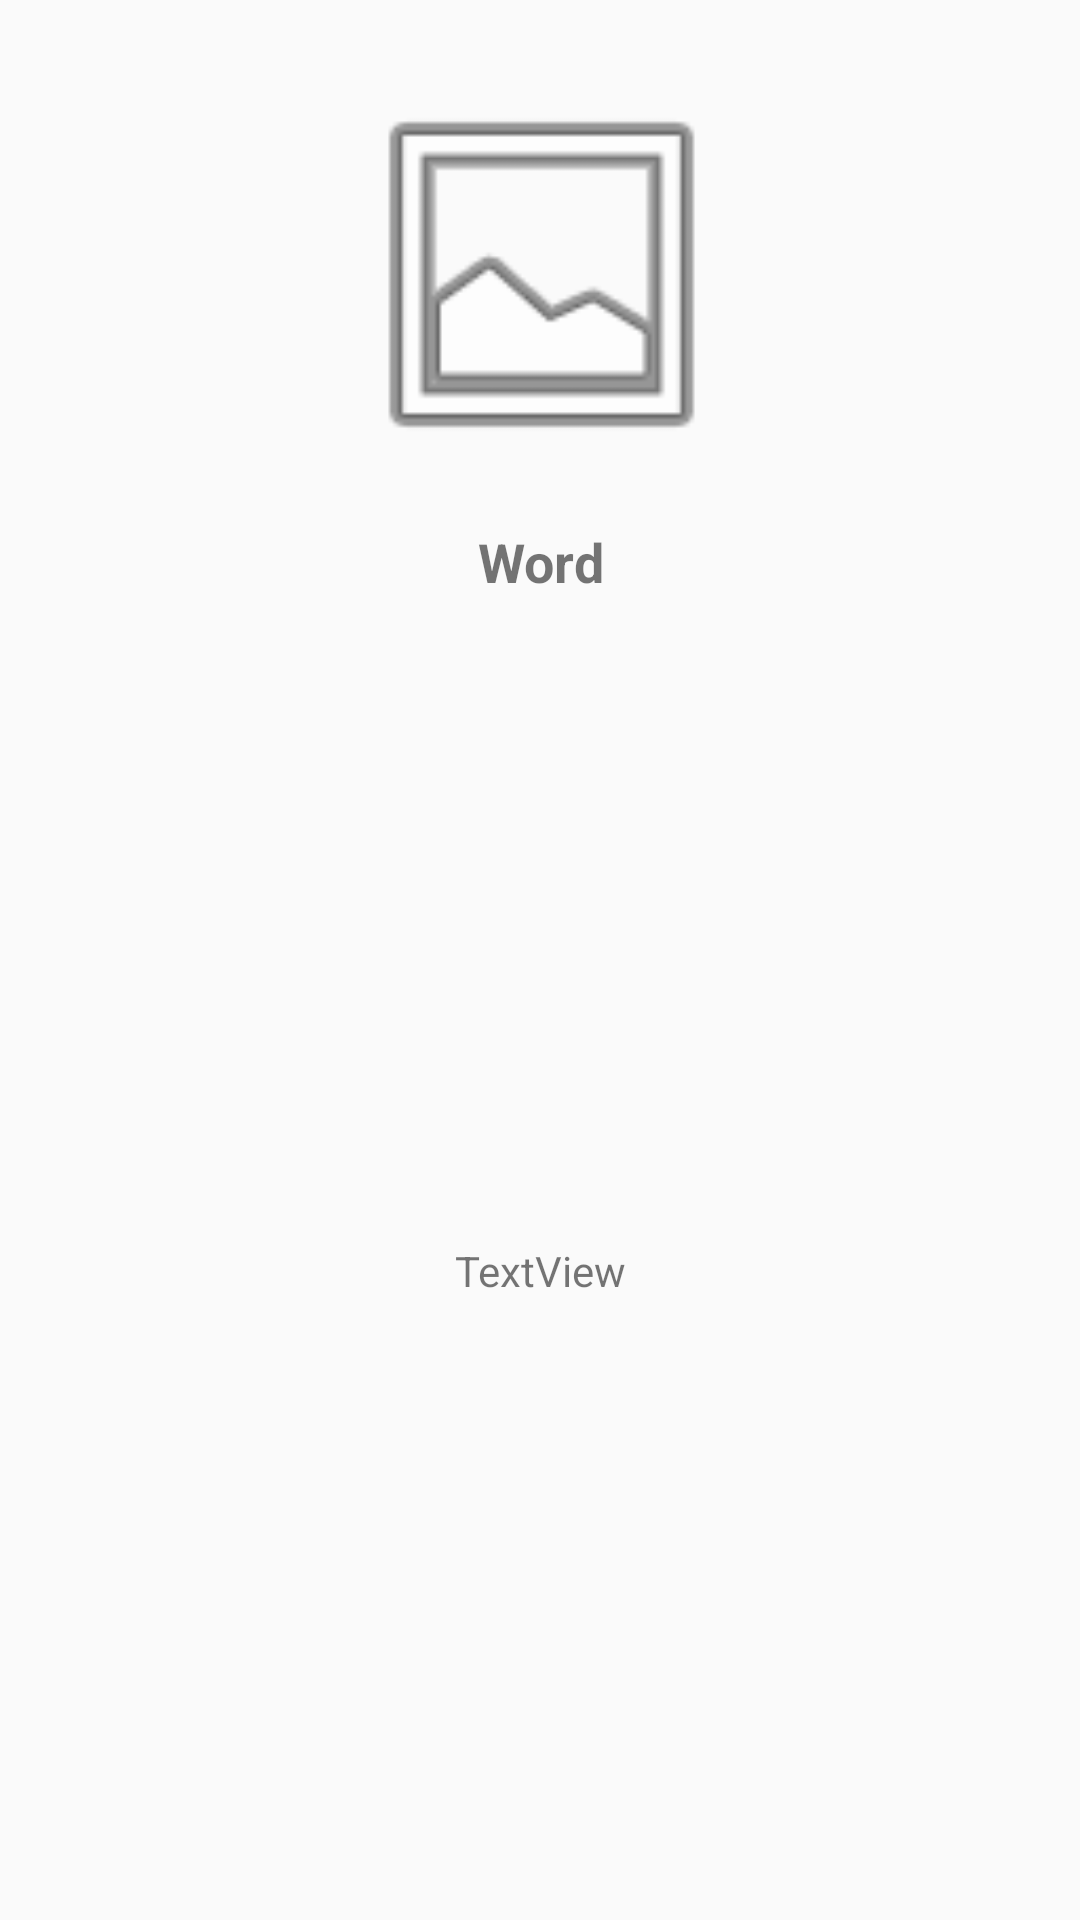

Icon bounding boxes for this 1080*1920 phone screenshot, format (x1, y1, x2, y2):
gallery: (389, 121, 694, 428)
